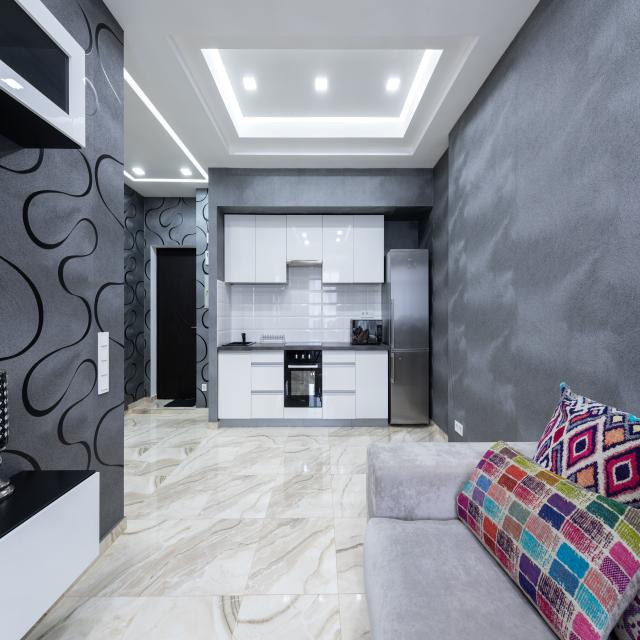floor: (24, 394, 448, 640)
wall: (448, 0, 640, 442), (0, 0, 127, 544), (20, 516, 127, 640), (144, 197, 196, 397), (208, 168, 433, 206), (151, 245, 196, 397), (124, 183, 145, 412), (432, 147, 448, 436), (217, 206, 433, 221), (418, 206, 433, 420), (196, 188, 208, 408), (207, 206, 217, 423), (384, 221, 418, 257), (109, 332, 124, 391), (217, 206, 224, 282)
